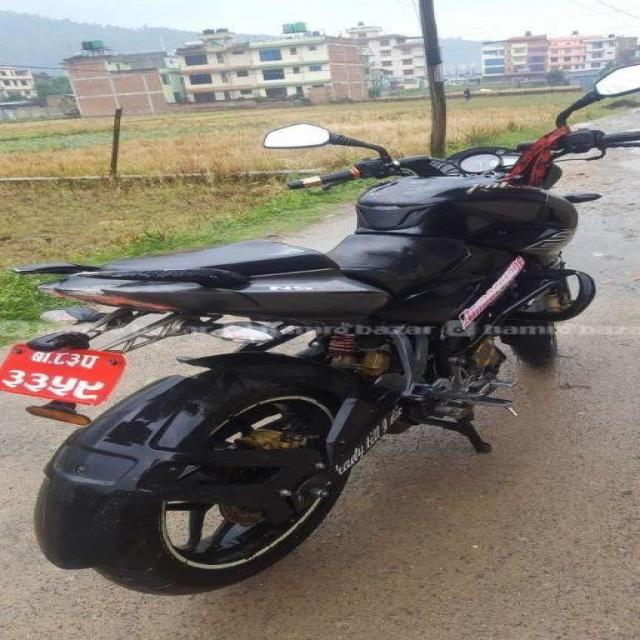License-plate: (0, 340, 133, 406)
